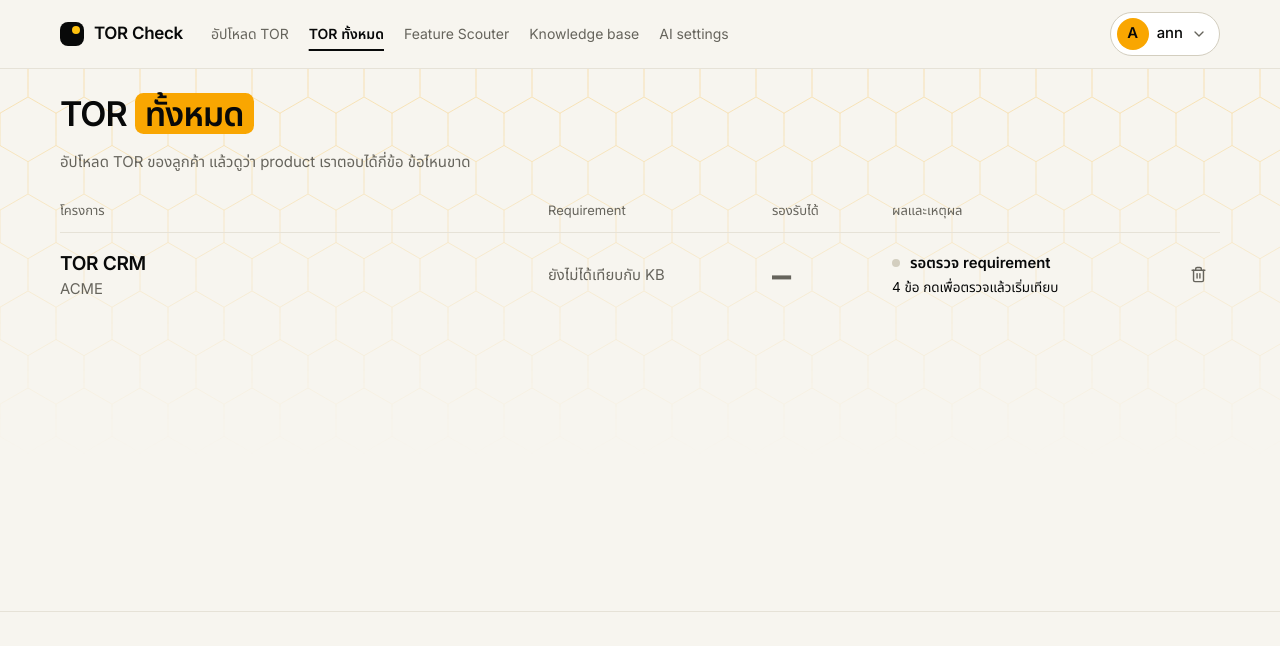
Test: accounts in the app › a TOR waiting for its review is in the list, and opens on the review
Expected: the text "TOR CRM" shows "ยังไม่ได้เทียบกับ KB", [548,266,665,284]
Expected: the text "TOR CRM" shows "รอตรวจ requirement", [910,254,1050,272]
Click the button with aria-label "เปิด TOR CRM".
click(103, 264)  # box [60,249,146,279]
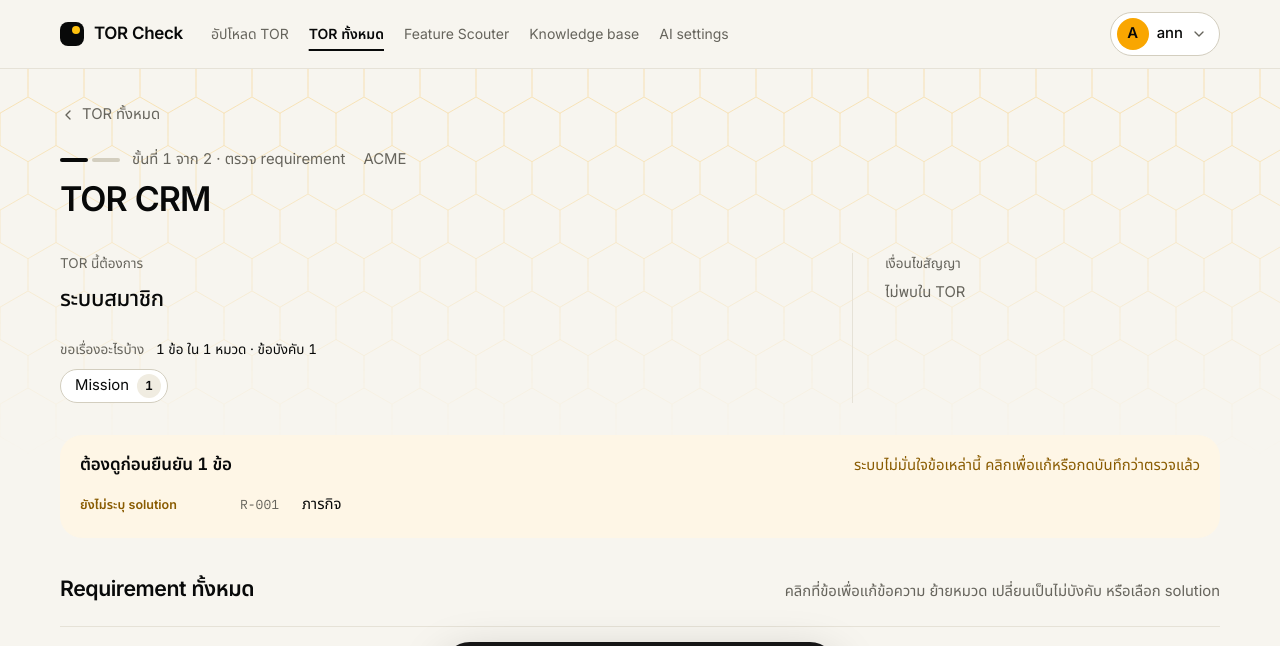
Now the text "ขั้นที่ 1 จาก 2 · ตรวจ requirement" is shown, box [60,149,345,170]
